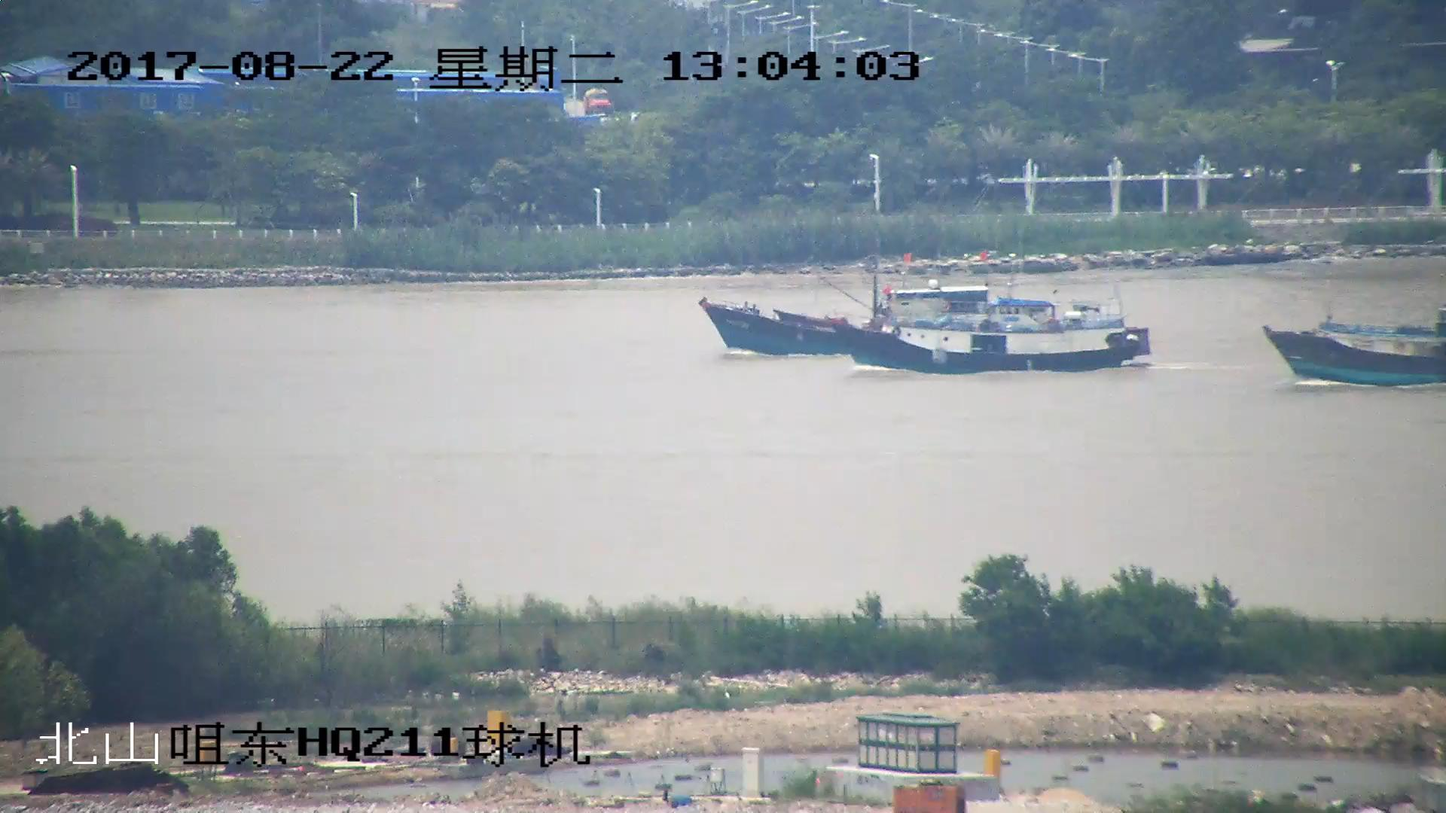fishing boat: (837, 290, 1148, 376), (703, 284, 1007, 358), (1261, 311, 1445, 386)
